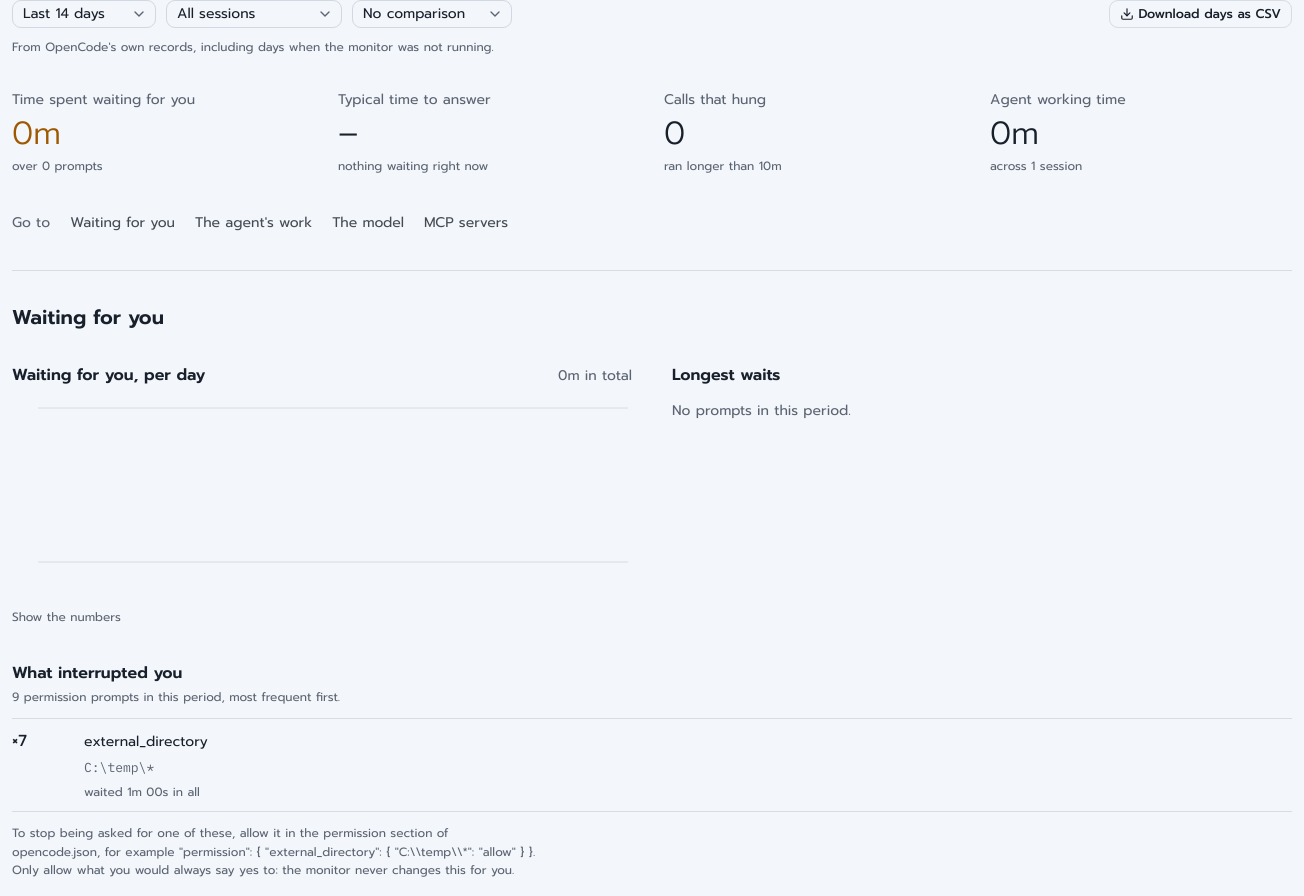
MCP servers in Stats › asks the server for one session, and says what cannot be known for it
Click the dropdown labelled "session": (254, 14) 166,0 -> 342,28
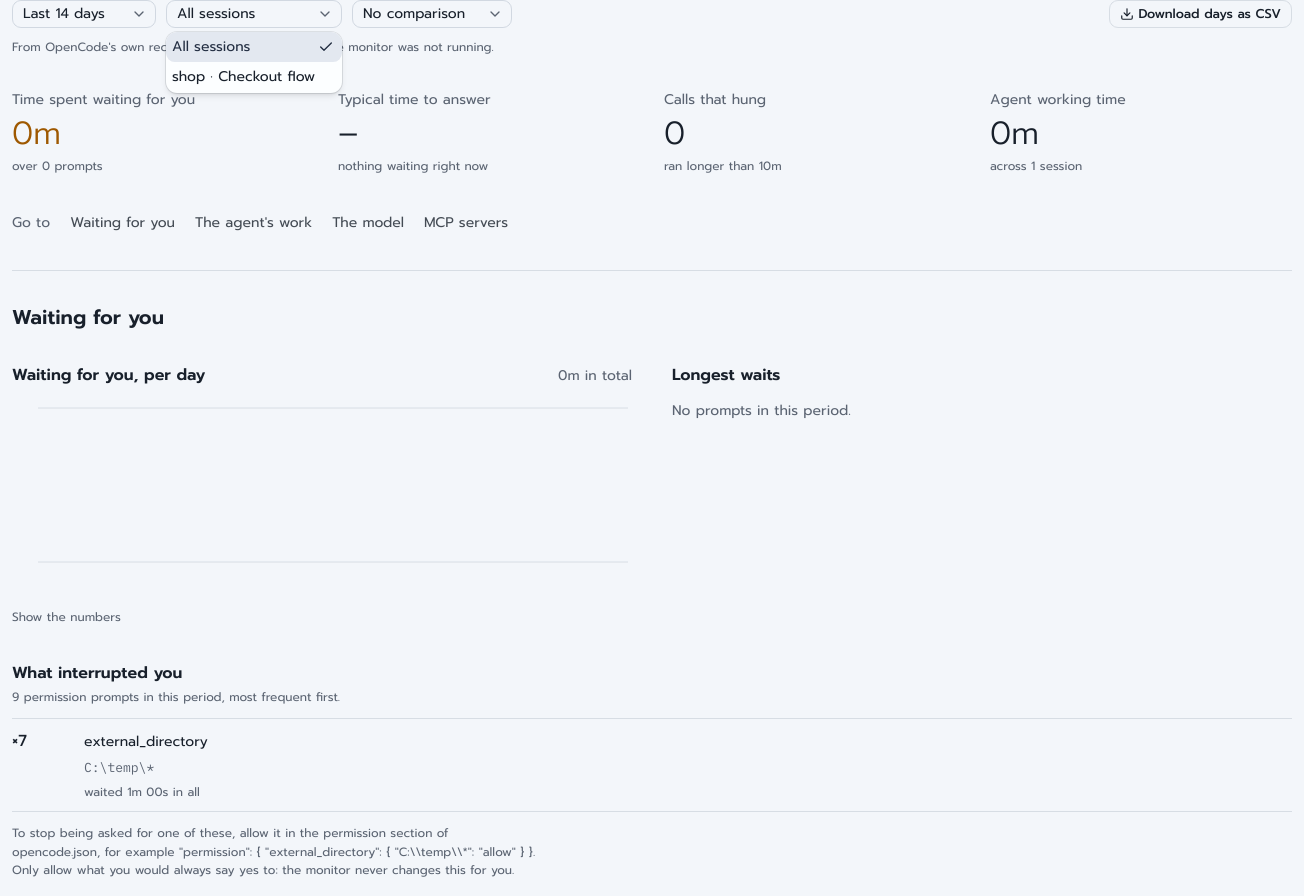
Click the option "shop · Checkout flow": (244, 77) 172,66 -> 315,87
(page scrolled)
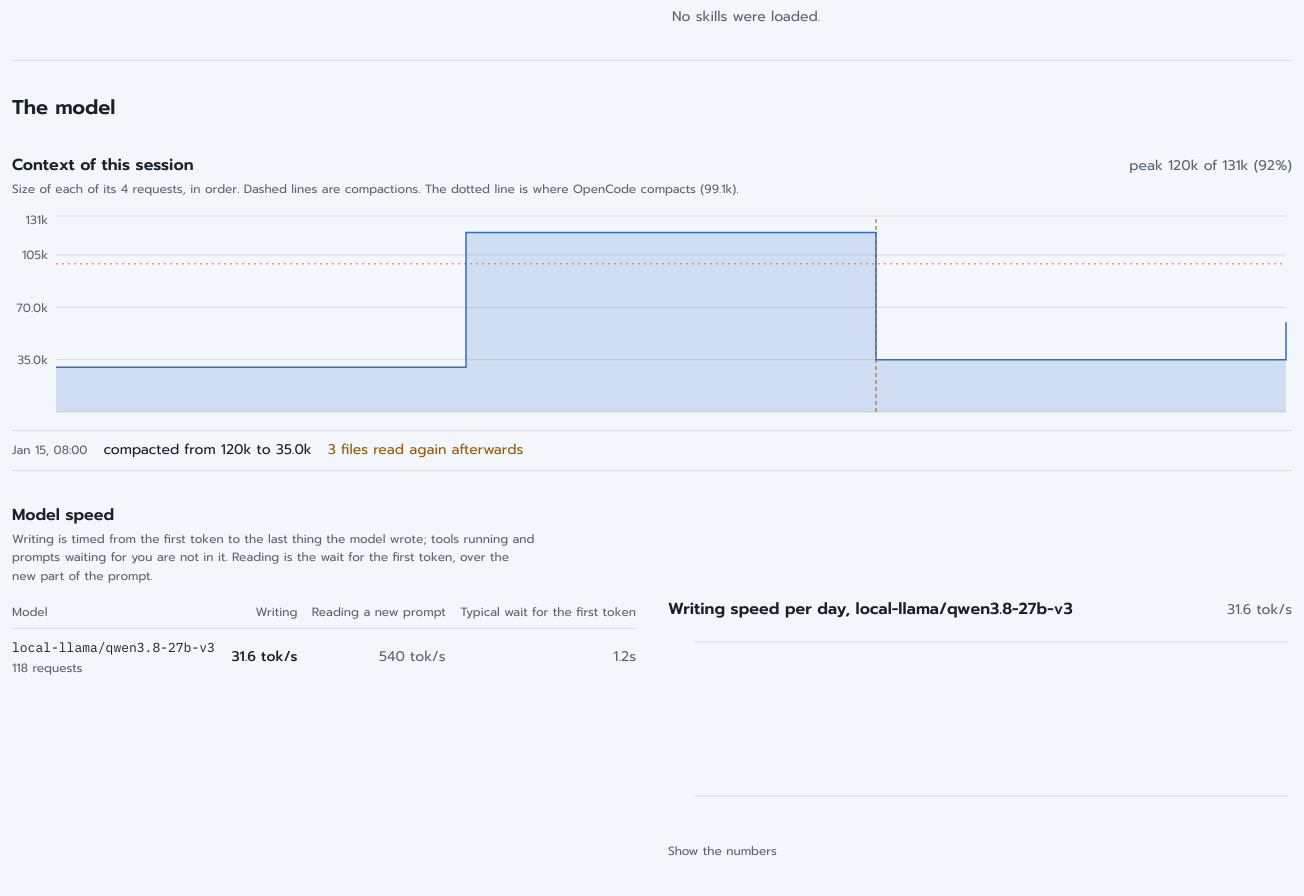
Check: the text "peak 120k of 131k (92%)" is shown, box 1129,155 -> 1292,178
Check: the text "compacted from 120k to 35.0k" is shown, box 103,440 -> 312,462
Check: the text "3 files read again afterwards" is shown, box 328,440 -> 523,462
